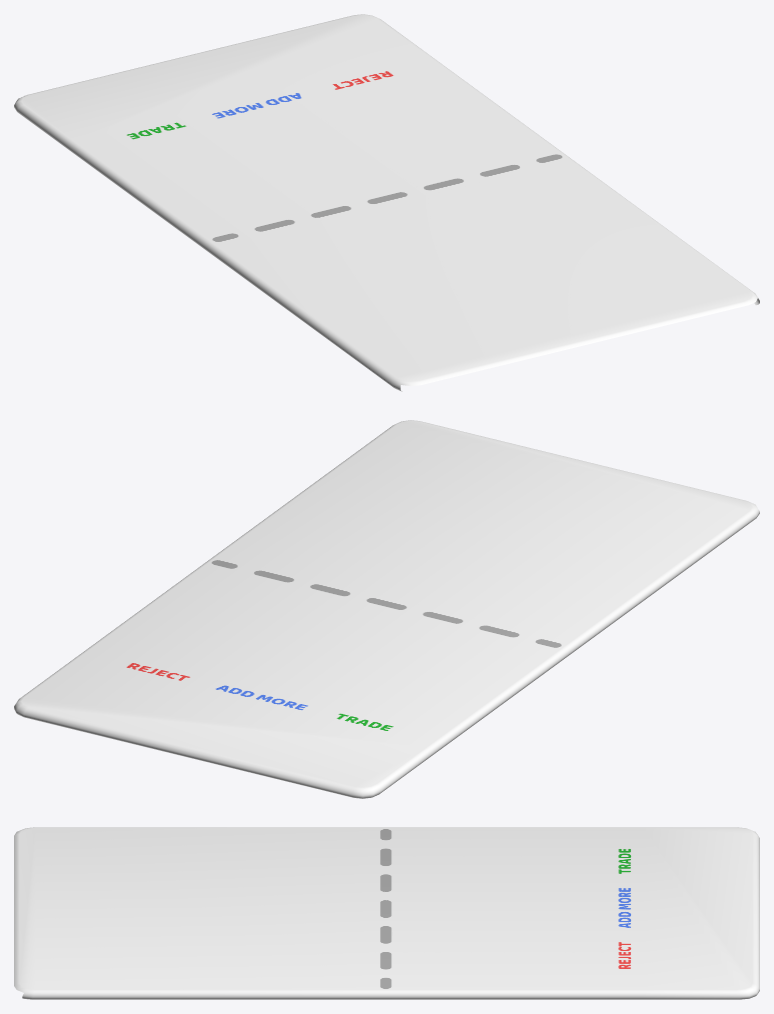
The model's file is Zone2.fbx.
The picture shows the model from 3 angles, top to bottom: view 1: azimuth 30°, elevation 25°; view 2: azimuth 150°, elevation 25°; view 3: azimuth 270°, elevation 25°; orthographic projection. The views are drawn at different scales.
Parts seen in each view (by area): view 1: Plane.017; view 2: Plane.017; view 3: Plane.017.
Boxes of the visible parts, bbox=[...] form: Plane.017: bbox=[14, 14, 759, 391]; Plane.017: bbox=[14, 420, 759, 798]; Plane.017: bbox=[14, 827, 759, 999].
Bounding box in the file's own units: 5.38 × 0.1297 × 10.15.
